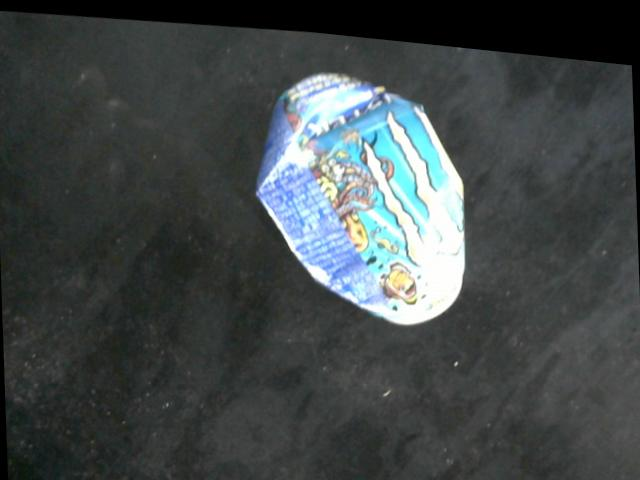can: (256, 60, 474, 326)
